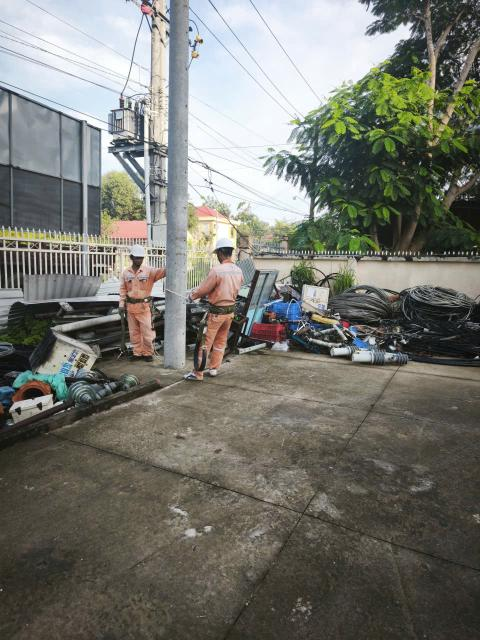gloves: (114, 301, 129, 318), (187, 292, 195, 304)
harness: (125, 293, 157, 307), (207, 304, 235, 316)
helmet: (127, 244, 151, 265), (209, 237, 238, 254)
shoes: (184, 368, 204, 383), (205, 364, 223, 380), (142, 351, 156, 366), (130, 351, 144, 364)
